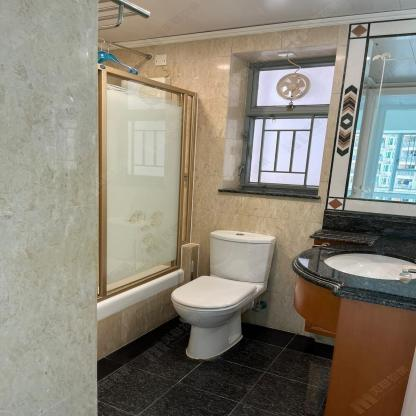Exhaust Fan: (274, 71, 311, 100)
Toilet: (168, 228, 276, 362)
Toilet Sink: (322, 252, 416, 284)
Water Cubicle: (98, 65, 200, 323)
